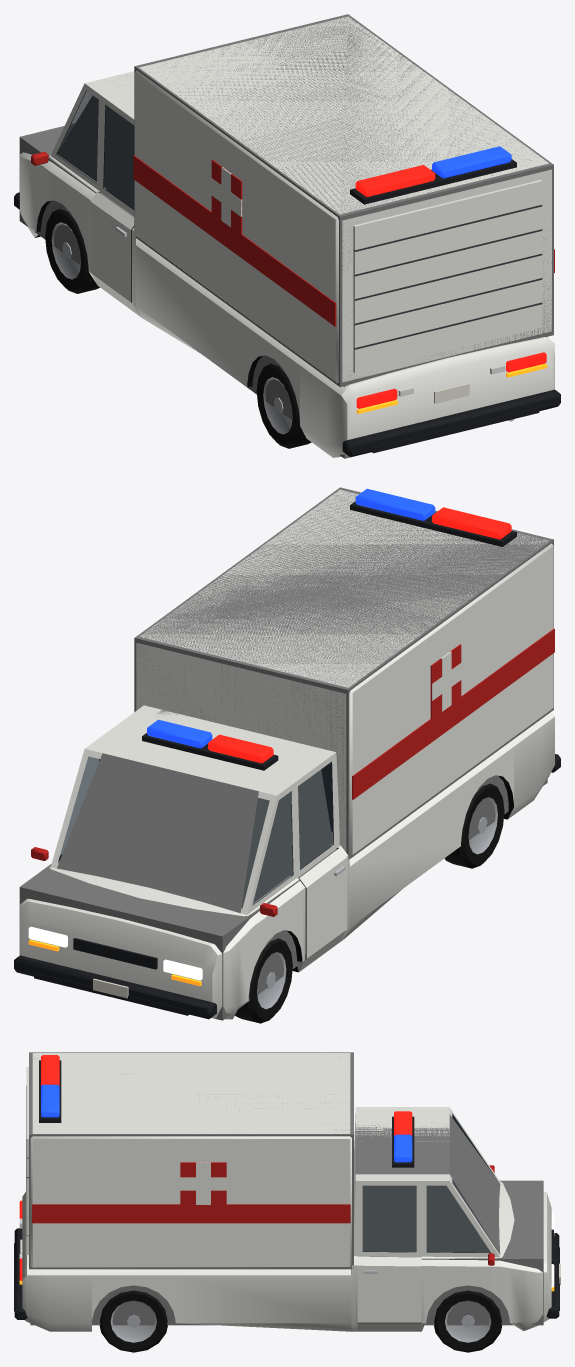
The model's file is ambulance.glb.
3 renders of one model, top to bottom at view 1: azimuth 30°, elevation 25°; view 2: azimuth 150°, elevation 25°; view 3: azimuth 270°, elevation 25°, orthographic. The views are drawn at different scales.
Parts seen in each view (by area): view 1: ambulance_Body, ambulance, ambulance_Door_FL, ambulance_Cabin, ambulance_Bumper_R, ambulance_Wheel_FL, ambulance_Wheel_RL; view 2: ambulance_Body, ambulance, ambulance_Cabin, ambulance_Door_FL, ambulance_Bumper_F, ambulance_Wheel_FL, ambulance_Wheel_RL, ambulance_Grille; view 3: ambulance_Body, ambulance, ambulance_Door_FR, ambulance_Cabin, ambulance_Wheel_RR, ambulance_Wheel_FR, ambulance_Bumper_R, ambulance_Bumper_F.
Boxes of the visible parts, x1,y1,x2,y2 form: ambulance_Body: (20, 16, 554, 457); ambulance: (19, 14, 553, 458); ambulance_Door_FL: (90, 96, 134, 301); ambulance_Cabin: (50, 71, 134, 190); ambulance_Bumper_R: (342, 389, 560, 457); ambulance_Wheel_FL: (45, 208, 99, 293); ambulance_Wheel_RL: (256, 363, 311, 448); ambulance_Body: (20, 488, 554, 1019); ambulance: (19, 487, 553, 1020); ambulance_Cabin: (50, 705, 339, 915); ambulance_Door_FL: (294, 753, 346, 958); ambulance_Bumper_F: (14, 955, 216, 1019); ambulance_Wheel_FL: (235, 938, 292, 1023); ambulance_Wheel_RL: (444, 783, 504, 868); ambulance_Grille: (73, 938, 157, 969); ambulance_Body: (19, 1053, 554, 1331); ambulance: (29, 1052, 543, 1325); ambulance_Door_FR: (357, 1181, 421, 1322); ambulance_Cabin: (354, 1107, 499, 1257); ambulance_Wheel_RR: (99, 1290, 167, 1352); ambulance_Wheel_FR: (434, 1290, 502, 1352); ambulance_Bumper_R: (14, 1228, 27, 1319); ambulance_Bumper_F: (546, 1233, 560, 1318).
Size of what is drawn, in the model's own units: 2.4 by 2.75 by 5.89.
